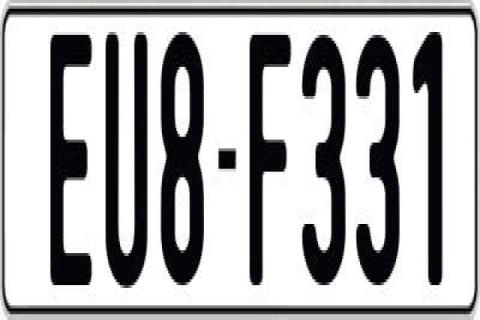0: (302, 27, 352, 280), (356, 26, 404, 288), (158, 32, 204, 300), (412, 29, 442, 299)
E: (50, 29, 92, 297)
F: (246, 27, 292, 280)
U: (102, 32, 148, 296)
